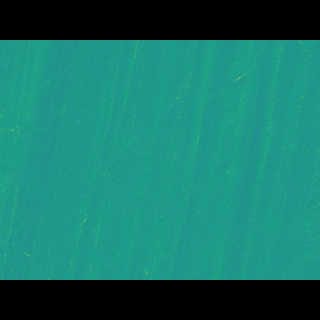Loch: (0, 158, 320, 231), (166, 69, 239, 249)
